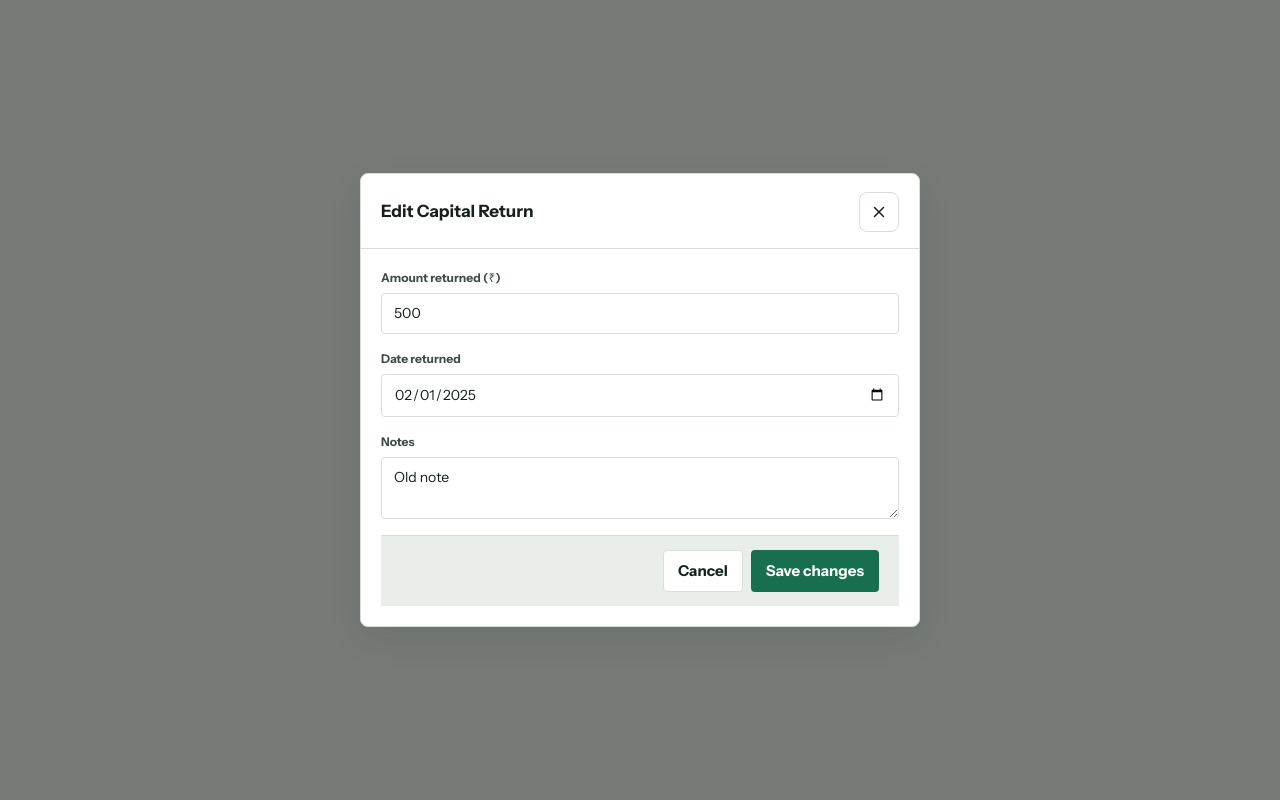
Test: rejects a capital return greater than available capital
Step 1. Replace the text in the number field labelled "Amount returned (₹)" with "100001" → (640, 313), box [381,293,899,334]
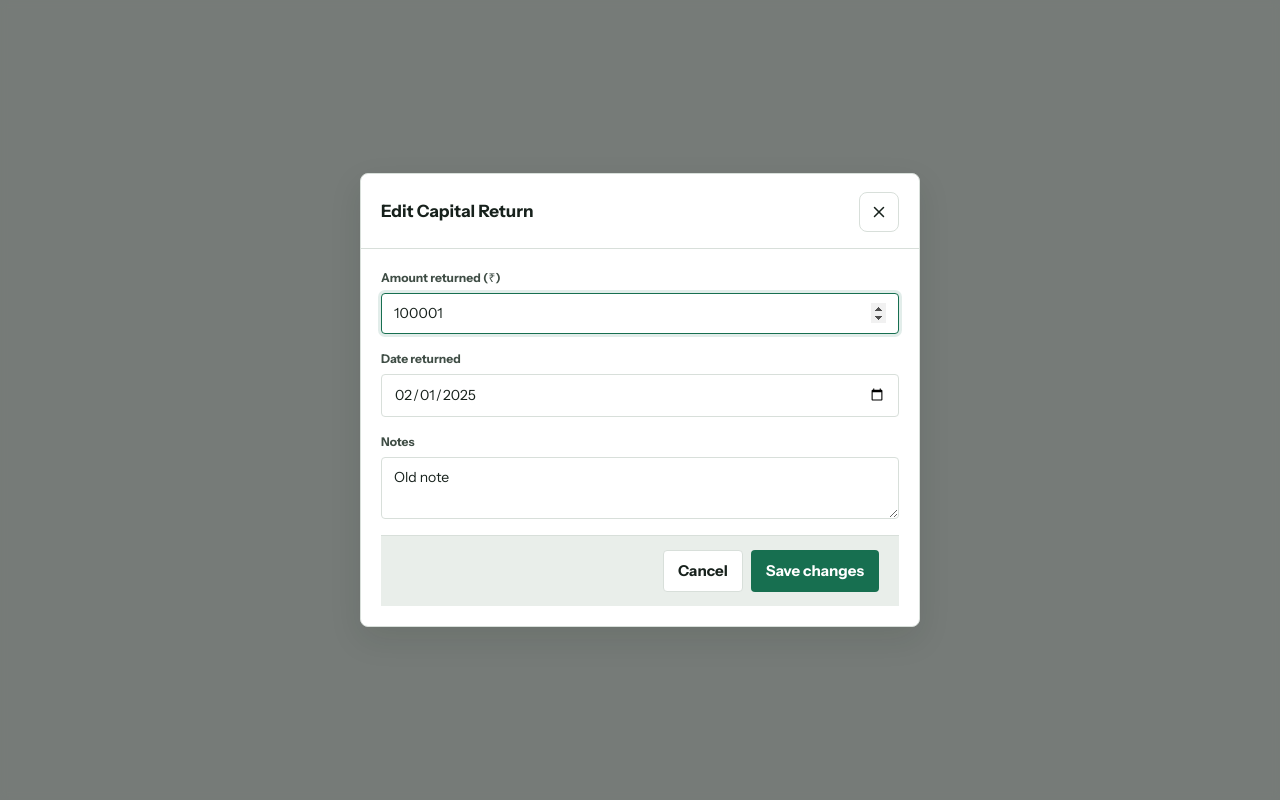
Step 2. Click the button "Save changes" → (815, 571), box [751,550,879,592]
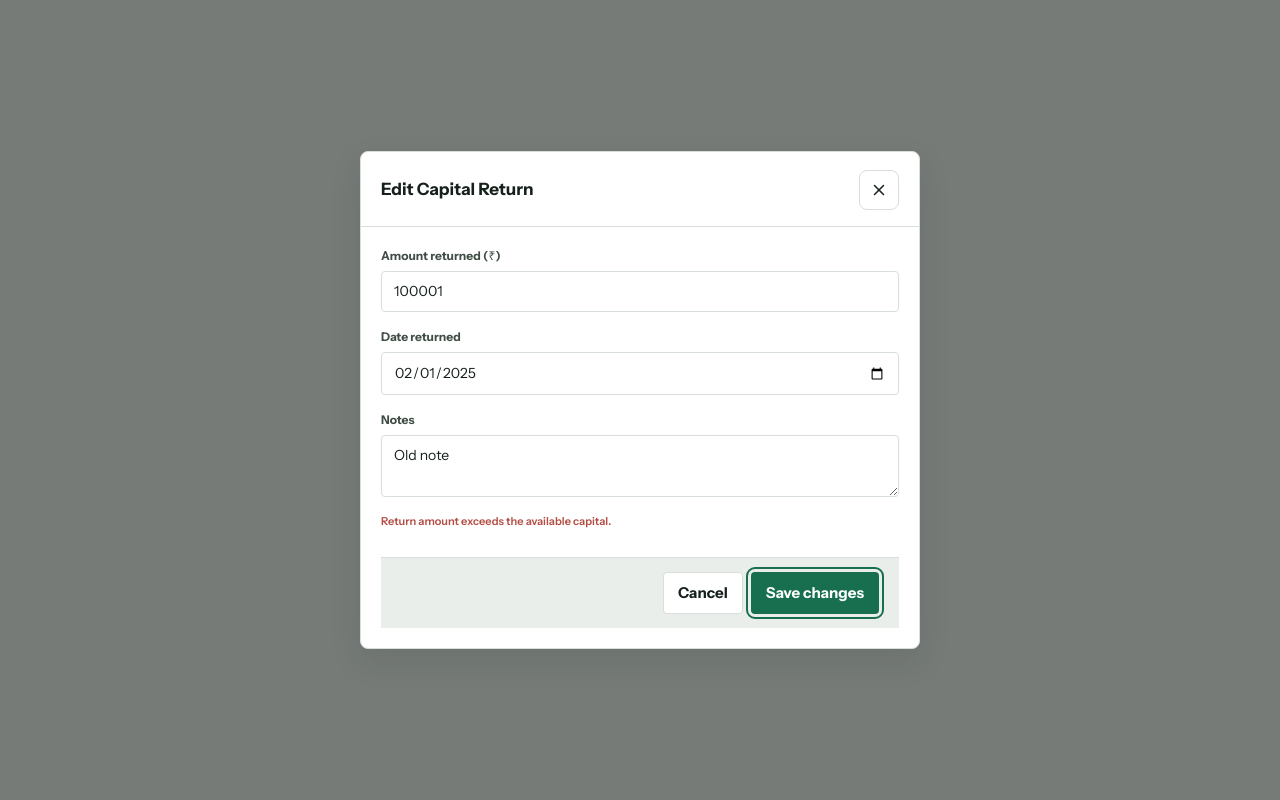
Expected: the message shows "exceeds", [381,514,611,528]
